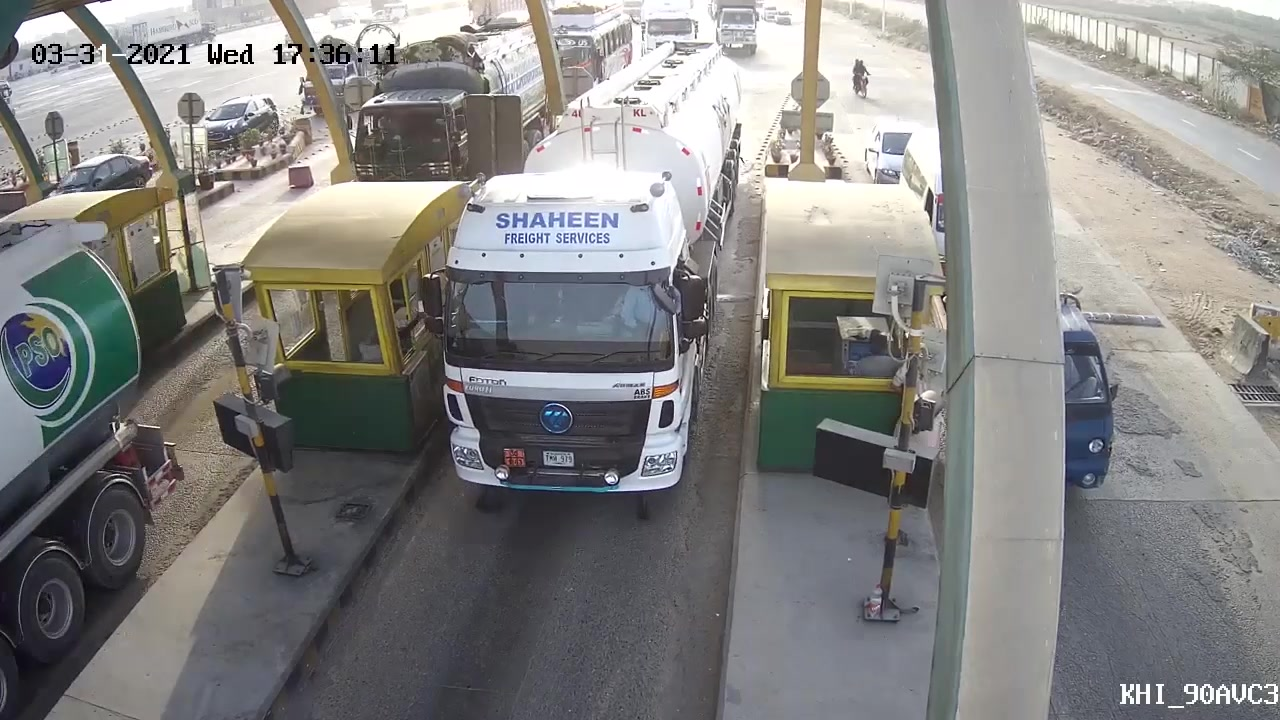F5: (419, 53, 764, 539)
